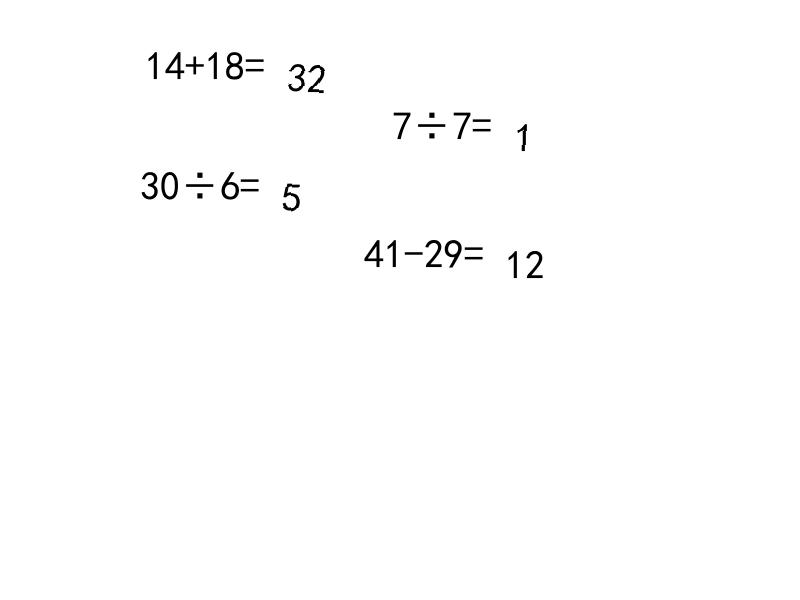+: (185, 45, 205, 73)
-: (404, 233, 424, 262)
0: (160, 165, 180, 195)
1: (384, 233, 404, 262), (494, 233, 514, 262), (145, 45, 165, 73), (205, 45, 225, 73), (502, 105, 522, 133)
2: (424, 233, 444, 262), (514, 233, 534, 262), (295, 45, 315, 73)
3: (140, 165, 160, 195), (275, 45, 295, 73)
4: (364, 233, 384, 262), (165, 45, 185, 73)
5: (270, 165, 290, 195)
6: (220, 165, 240, 195)
7: (392, 105, 412, 133), (452, 105, 472, 133)
8: (225, 45, 245, 73)
9: (444, 233, 464, 262)
=: (240, 165, 260, 195), (464, 233, 484, 262), (245, 45, 265, 73), (472, 105, 492, 133)
÷: (180, 165, 220, 195), (412, 105, 452, 133)
